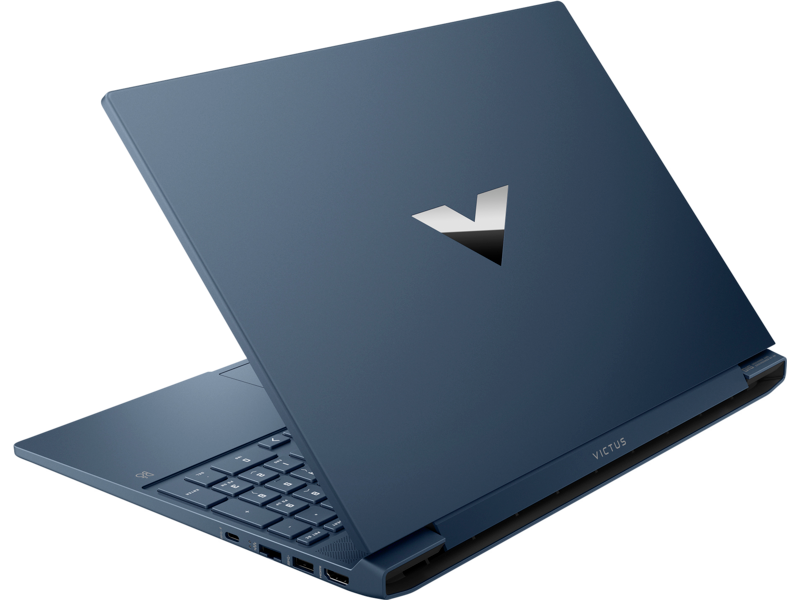laptop: (11, 28, 793, 597)
